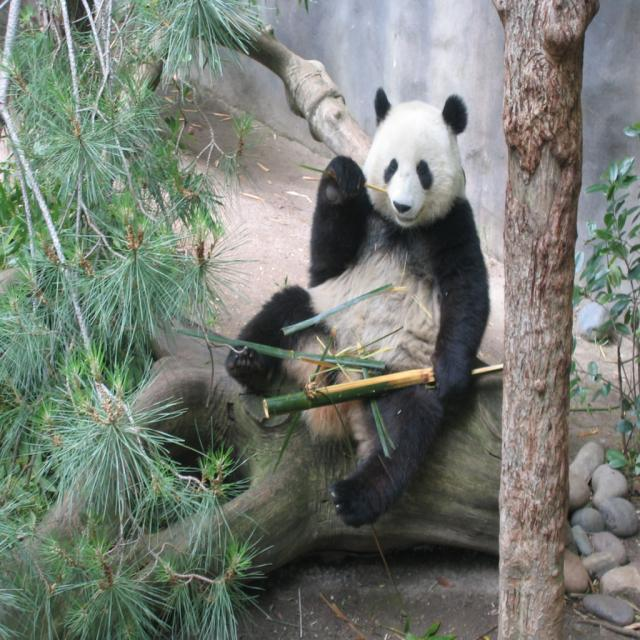panda: (219, 76, 492, 527)
